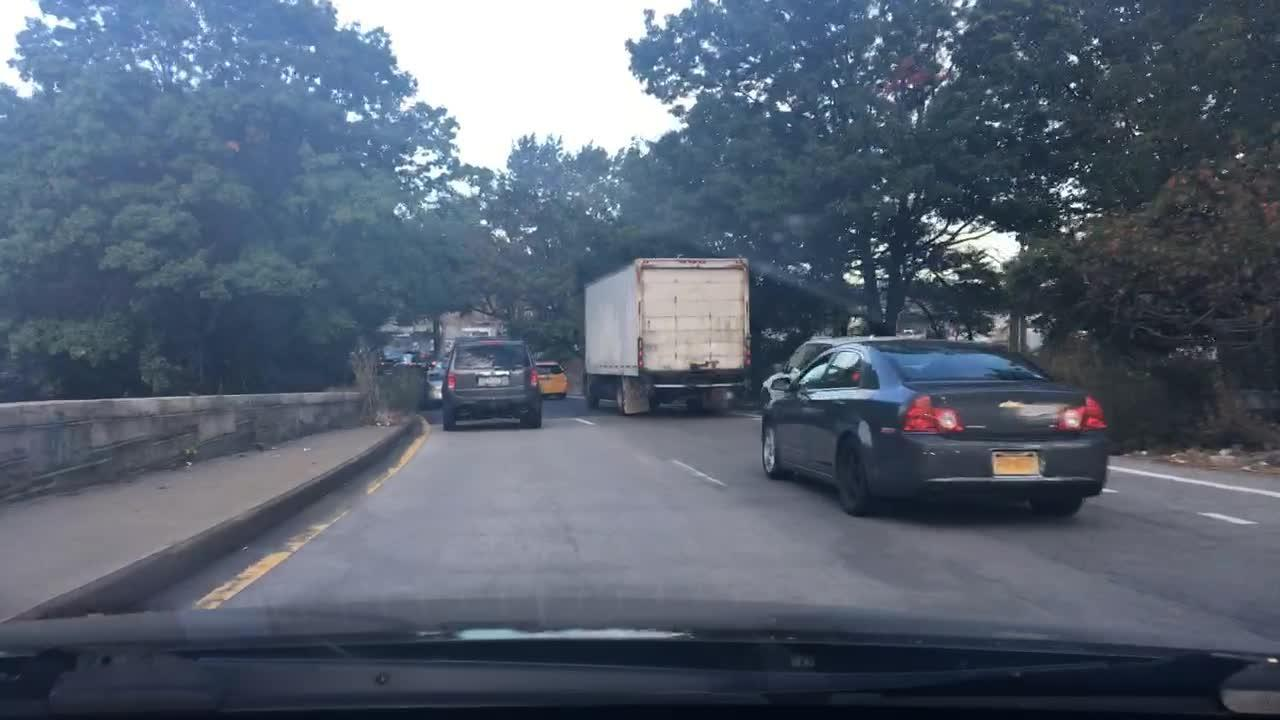chevrolet: (992, 389, 1035, 416)
